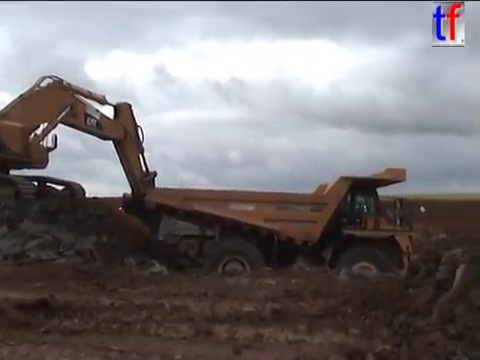excavator: (1, 72, 181, 248)
truck: (121, 165, 429, 303)
